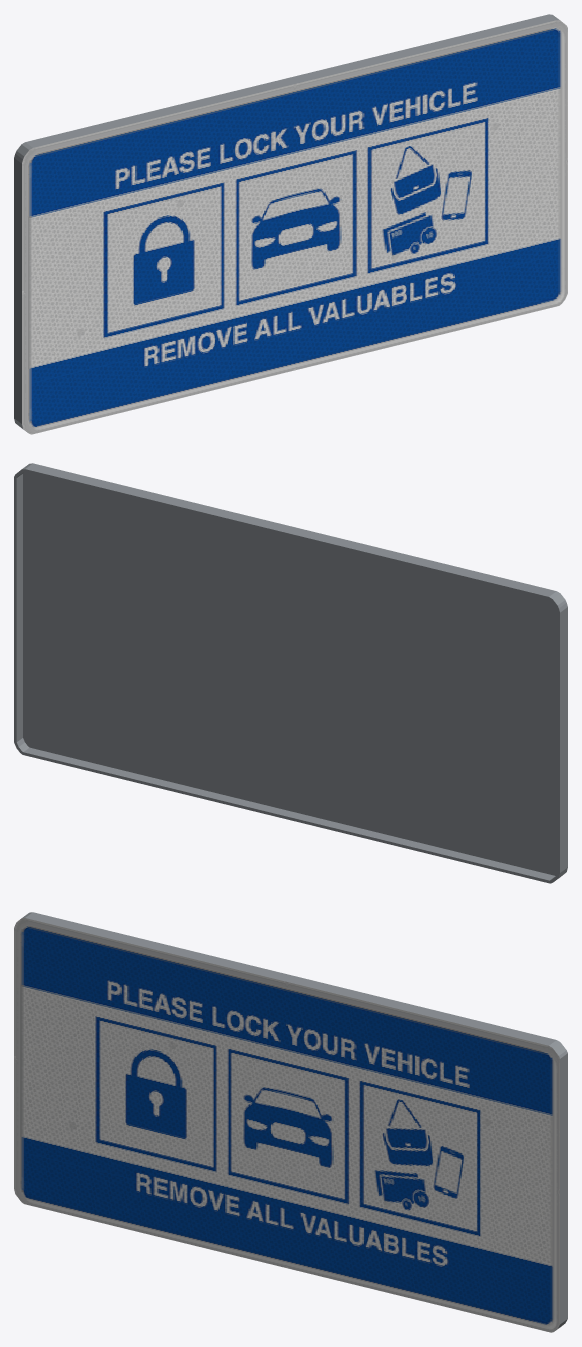
3 renders of one model, top to bottom at view 1: azimuth 30°, elevation 25°; view 2: azimuth 150°, elevation 25°; view 3: azimuth 330°, elevation 25°, orthographic.
Visible parts, largest first — view 1: cat_63e711ca1c9456a4; view 2: cat_63e711ca1c9456a4; view 3: cat_63e711ca1c9456a4.
Part boxes in pixels (x1,y1,x2,y2): cat_63e711ca1c9456a4: (14,14,567,434); cat_63e711ca1c9456a4: (14,463,567,883); cat_63e711ca1c9456a4: (14,912,567,1332).
Bounding box in the file's own units: 0.6 × 0.015 × 0.3007.
Materials: 2 (1 with a texture image).
